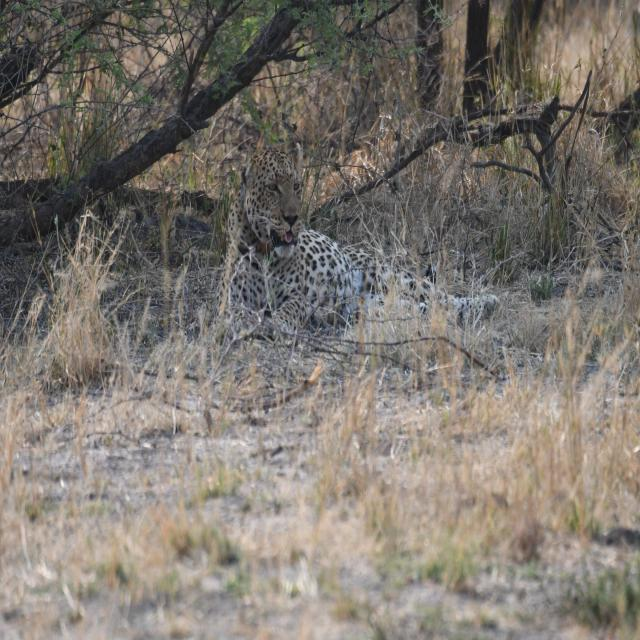Leopard: (212, 132, 488, 372)
